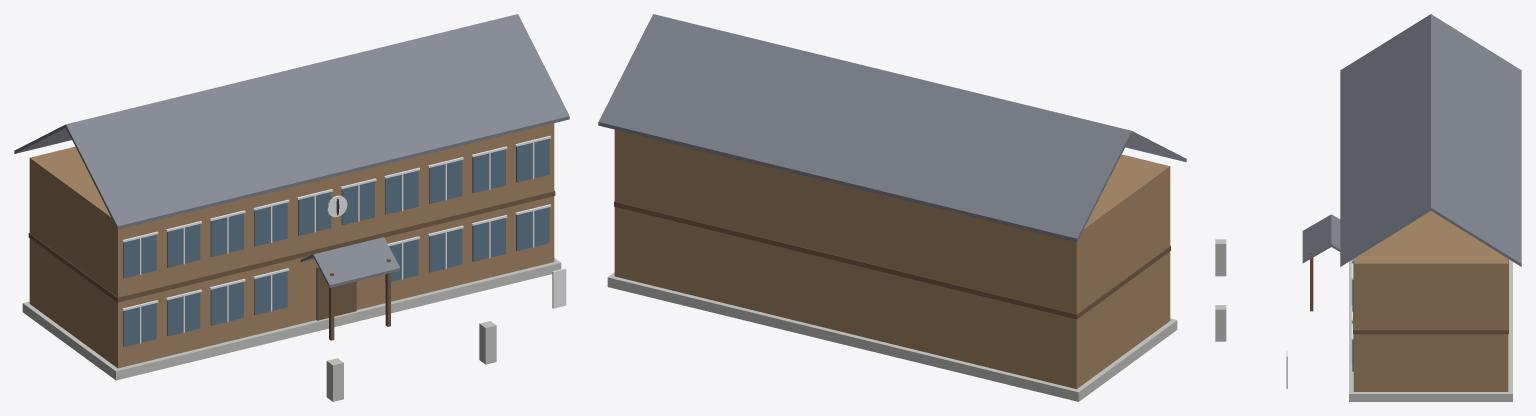
Rendered from kousha.glb.
The picture shows the model from 3 angles, left to right: view 1: azimuth 30°, elevation 25°; view 2: azimuth 150°, elevation 25°; view 3: azimuth 270°, elevation 25°; orthographic projection. The views are drawn at different scales.
Parts seen in each view (by area): view 1: kousha; view 2: kousha; view 3: kousha.
Part boxes in pixels (<box>): kousha: <box>14,14,569,401</box>; kousha: <box>598,14,1186,401</box>; kousha: <box>1215,14,1521,401</box>.
Bounding box in the file's own units: 20.72 × 9.76 × 13.85.
